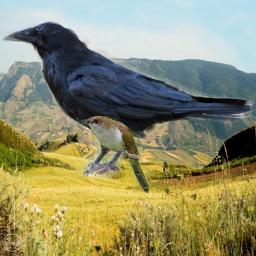Crow: (1, 20, 256, 181)
Cuckoo: (77, 116, 149, 193)
